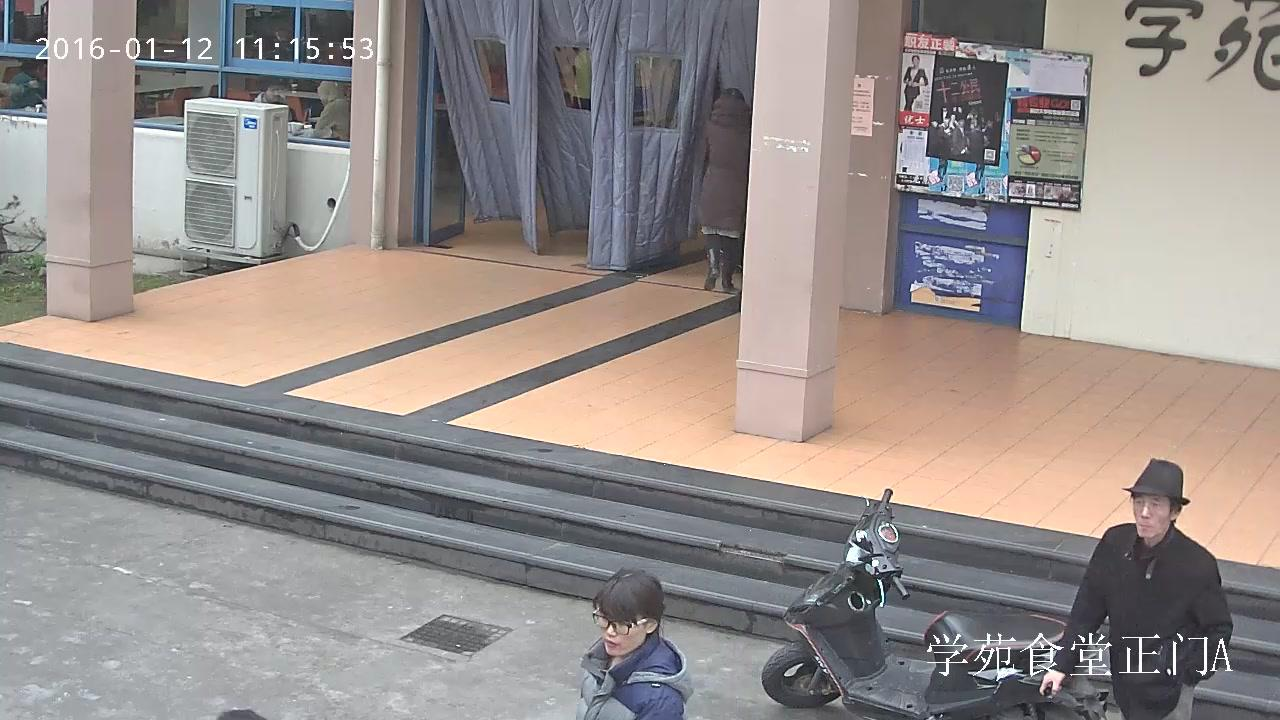person: (1038, 458, 1232, 720), (575, 565, 692, 720), (692, 87, 752, 292), (313, 79, 351, 141), (252, 75, 294, 121), (903, 55, 928, 112)
